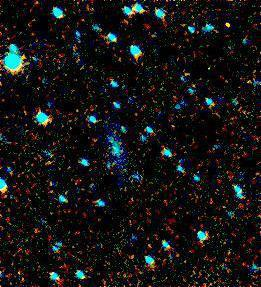star: (215, 7, 245, 37)
